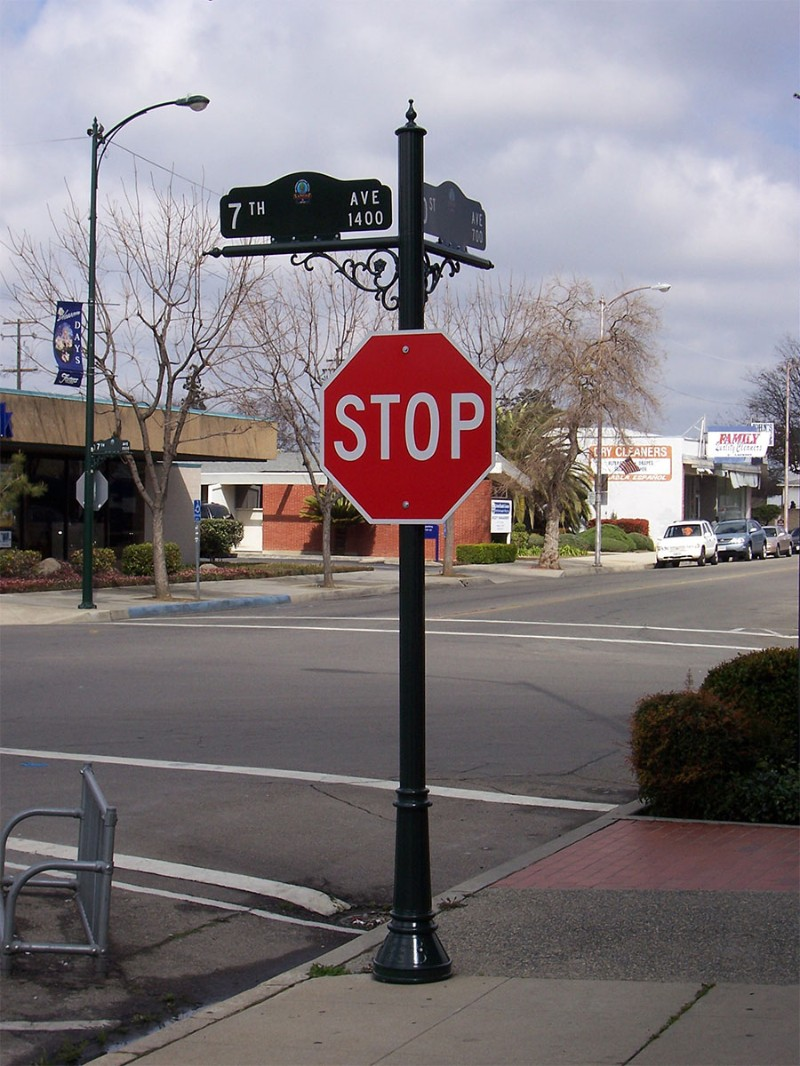stop: (316, 321, 494, 531)
